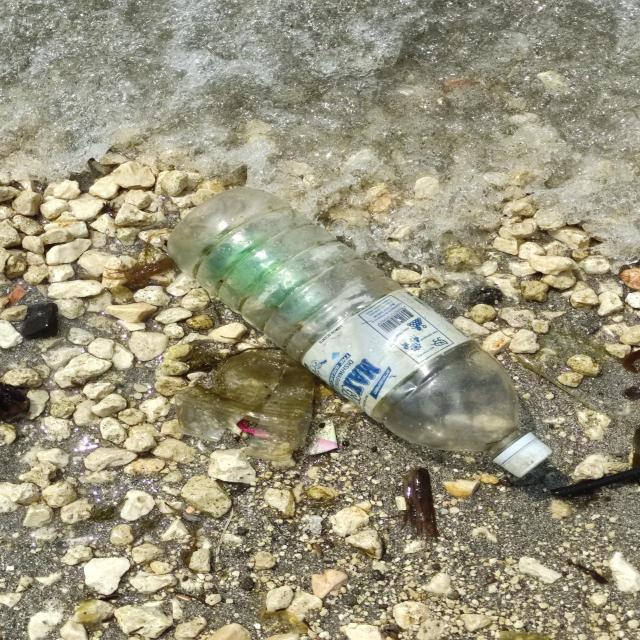plastic_waste: (168, 187, 555, 475)
